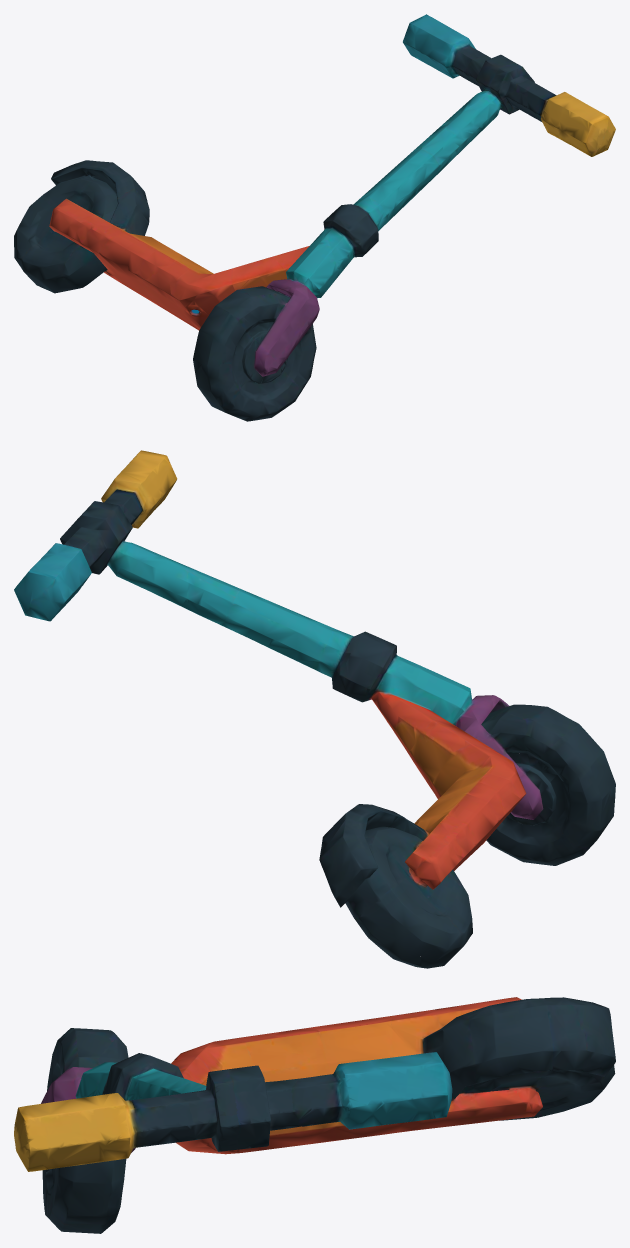
File: hulajnoga.glb
The picture shows the model from 3 angles, top to bottom: view 1: azimuth 30°, elevation 25°; view 2: azimuth 150°, elevation 25°; view 3: azimuth 270°, elevation 25°; orthographic projection. The views are drawn at different scales.
Parts seen in each view (by area): view 1: tripo_node_88410655-5f5c-4cf5-9f7d-c19d3ff82b1a; view 2: tripo_node_88410655-5f5c-4cf5-9f7d-c19d3ff82b1a; view 3: tripo_node_88410655-5f5c-4cf5-9f7d-c19d3ff82b1a.
Boxes of the visible parts, bbox=[...] form: tripo_node_88410655-5f5c-4cf5-9f7d-c19d3ff82b1a: bbox=[14, 14, 615, 421]; tripo_node_88410655-5f5c-4cf5-9f7d-c19d3ff82b1a: bbox=[14, 450, 615, 968]; tripo_node_88410655-5f5c-4cf5-9f7d-c19d3ff82b1a: bbox=[14, 997, 615, 1233].
Size of the model in its own units: 0.9795 by 0.533 by 0.77.
Materials: 1 (1 with a texture image).
